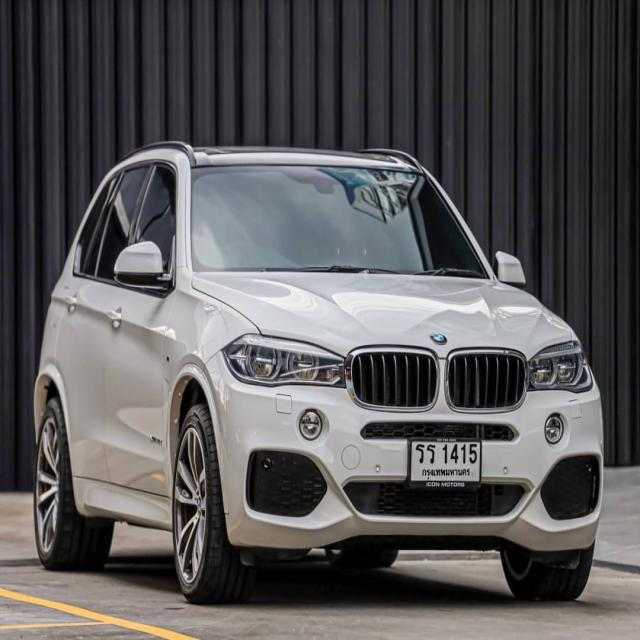license_plate: (407, 435, 484, 490)
